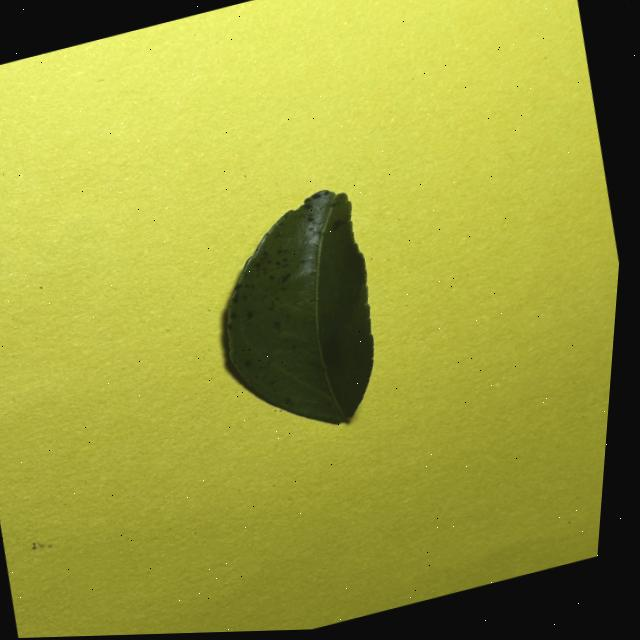sooty_mold: (227, 190, 373, 423)
